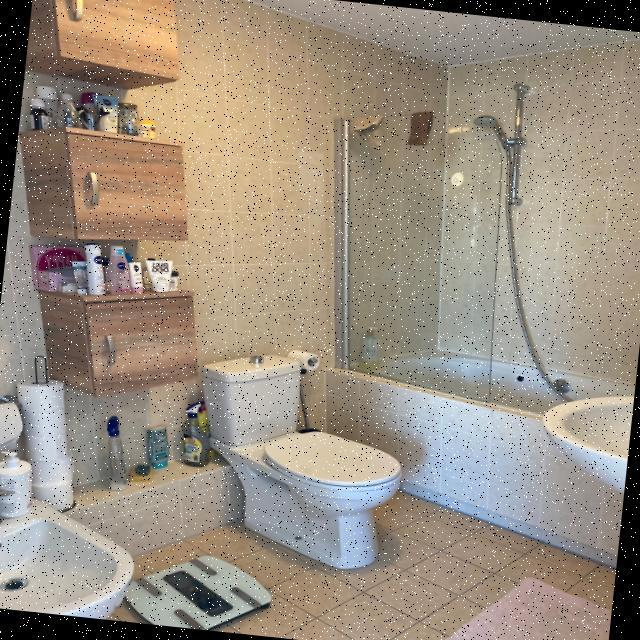bath: (299, 60, 640, 462)
toilet: (178, 344, 414, 578), (0, 490, 141, 620)
wastafel: (536, 384, 634, 494)
